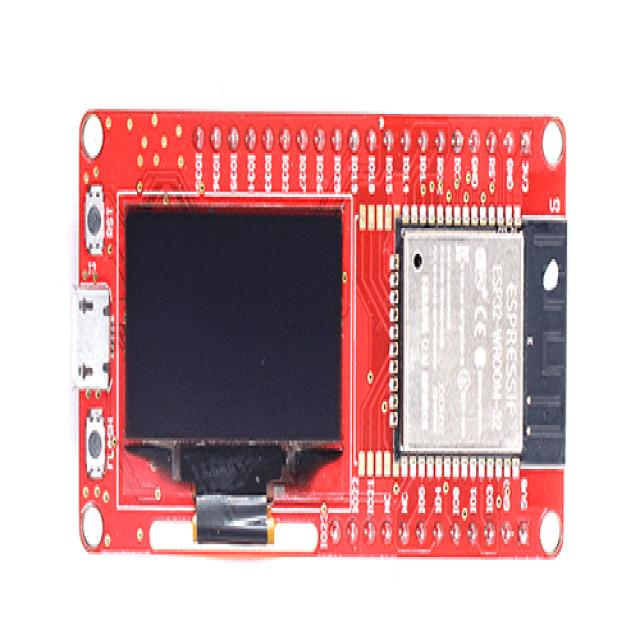2235: (83, 184, 106, 254), (84, 409, 105, 480)
IC: (388, 206, 528, 470)
connector -5v-: (71, 277, 114, 394)
display P5: (122, 204, 348, 454)
